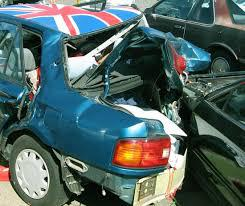Rear-windscreen-Damage: (67, 18, 123, 88)
